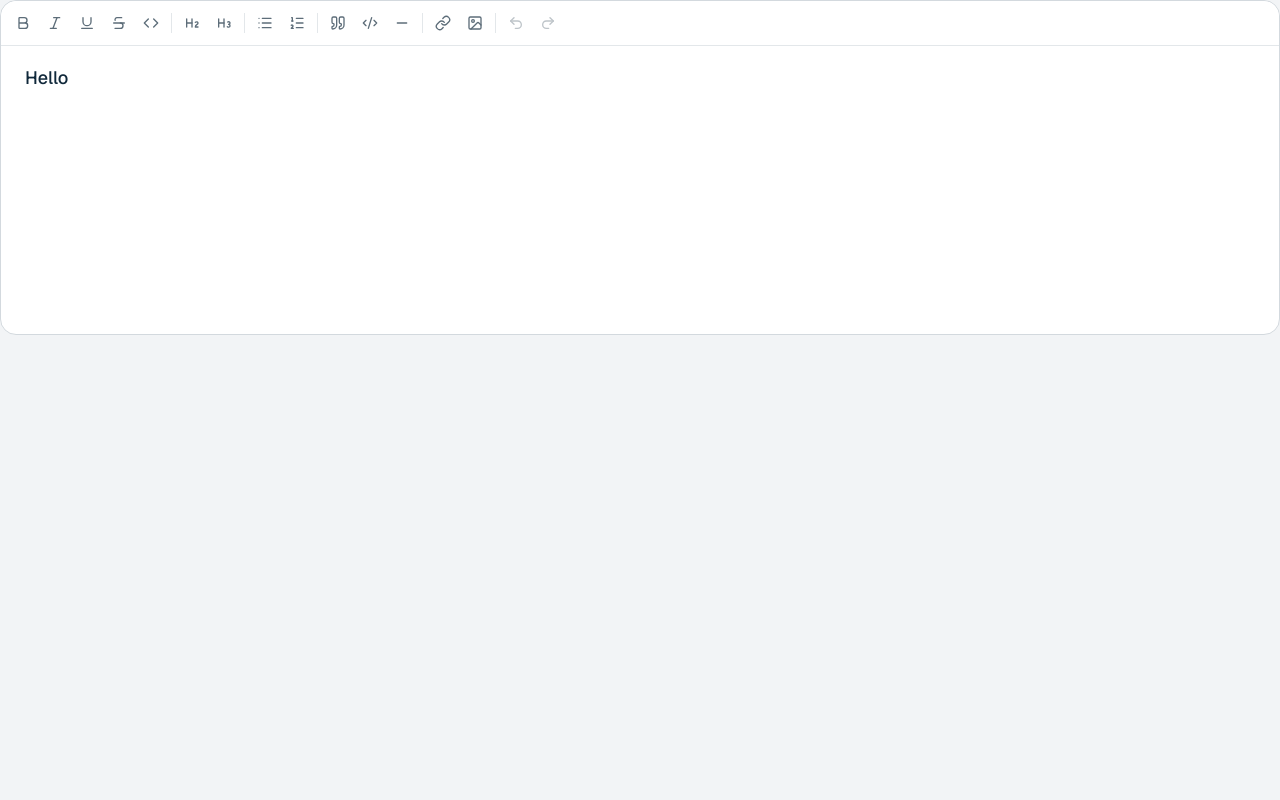
Test case: the toolbar › opens the link dialog and refuses an address the backend would
Expected: the element named "Text formatting" is shown, [1, 1, 1279, 46]
Click the button named "Link": (443, 23) [427, 7, 459, 39]
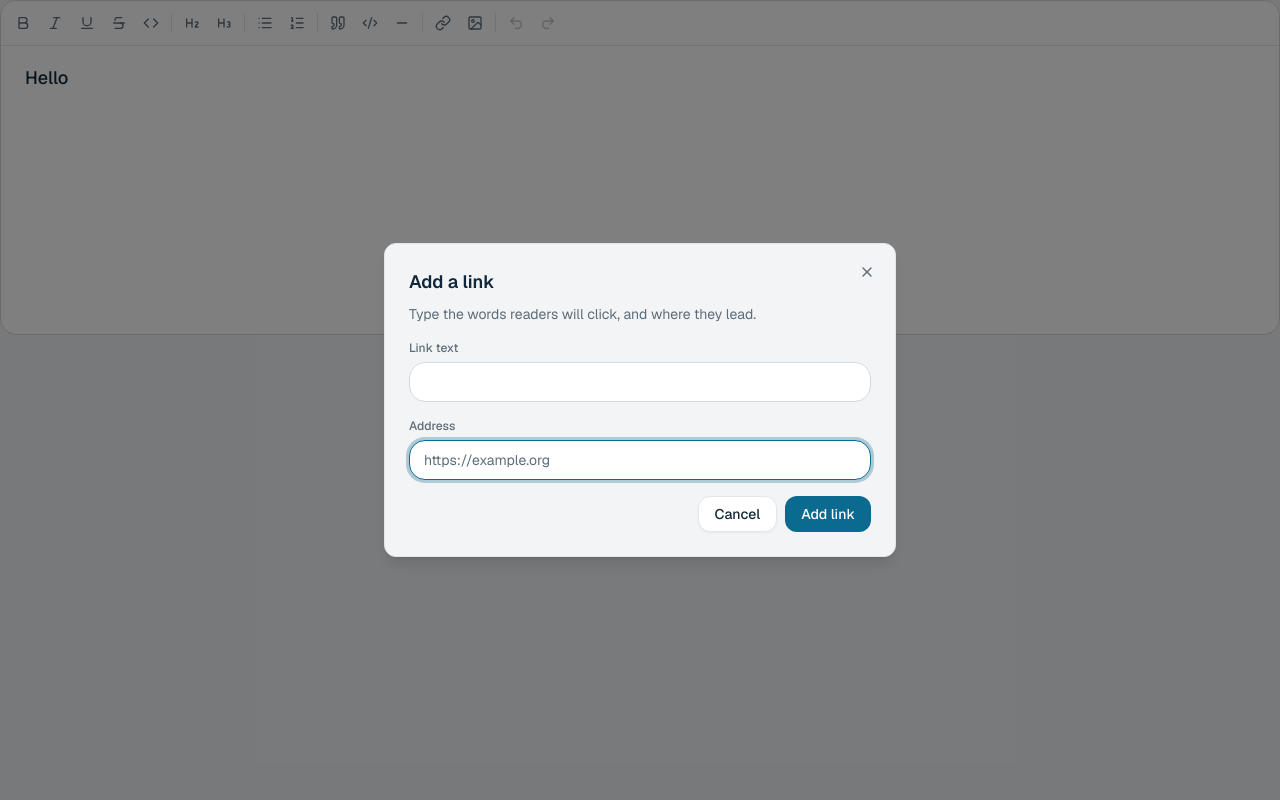
In the field labelled "Link text": (640, 382) [409, 362, 871, 402], type "here"
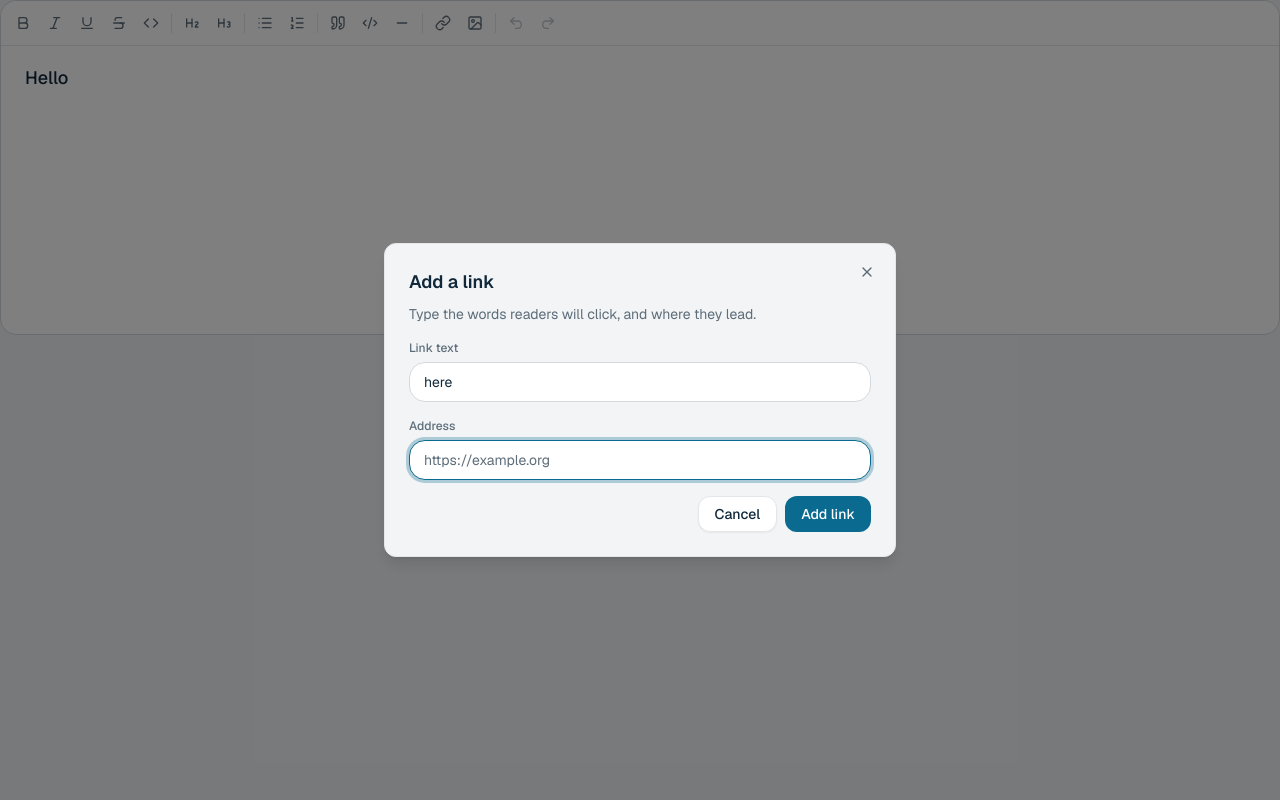
In the field labelled "Address": (640, 460) [409, 440, 871, 480], type "javascript:alert(1)"
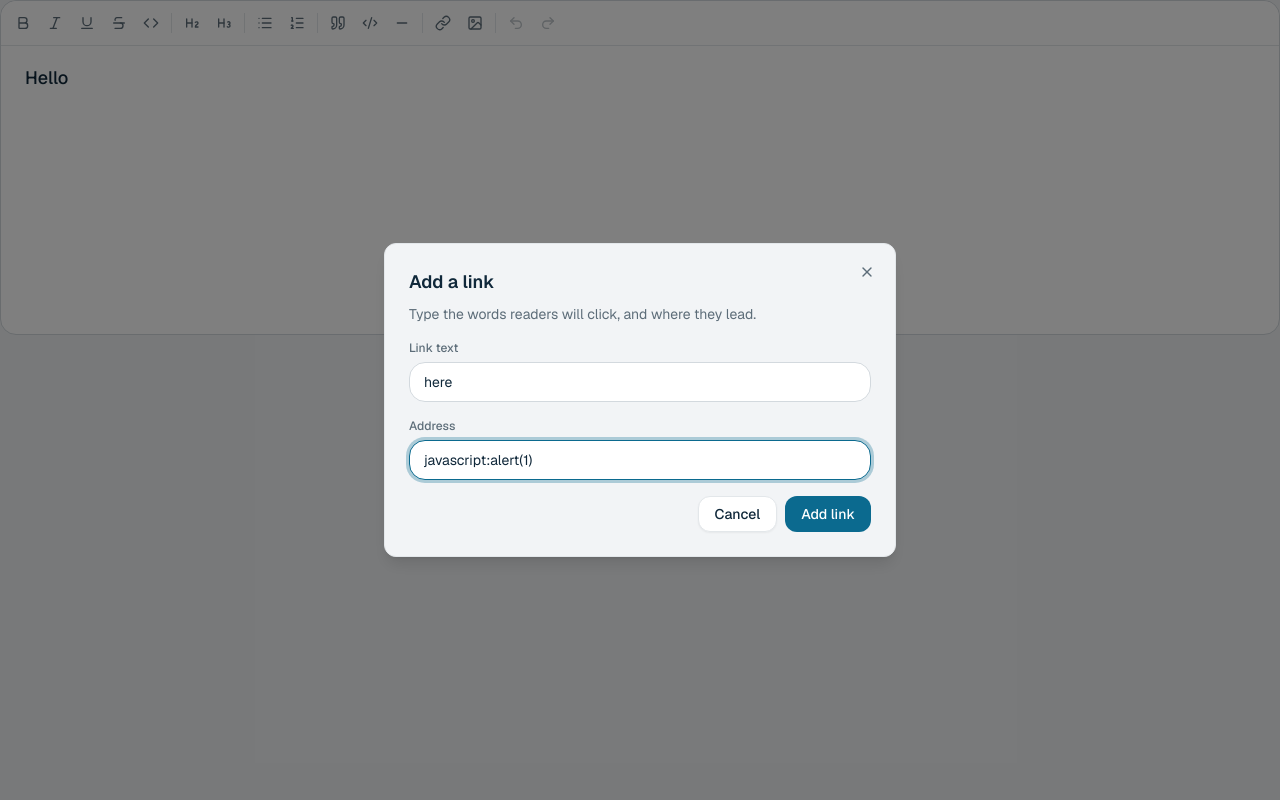
Click the button "Add link": (828, 514) [785, 496, 871, 532]
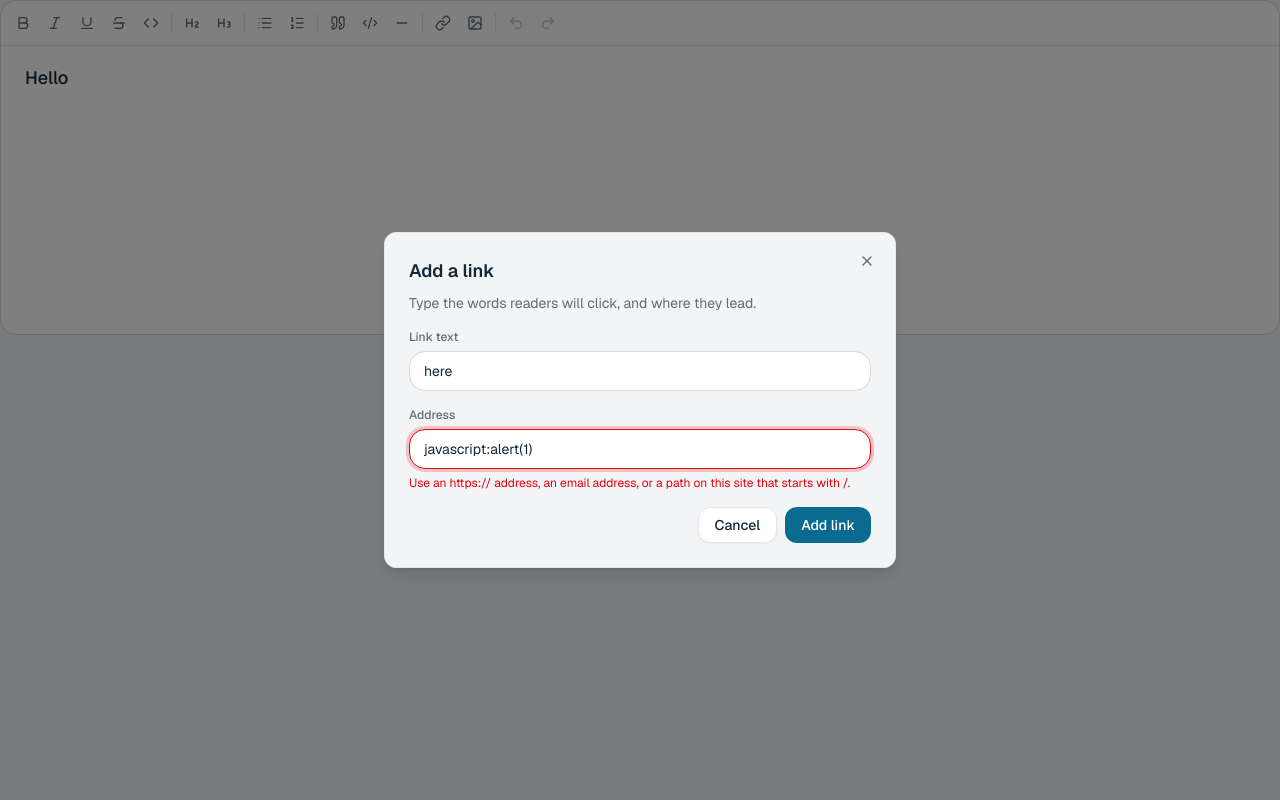
Result: the text "Use an https:// address" is shown at [409, 475, 850, 491]
